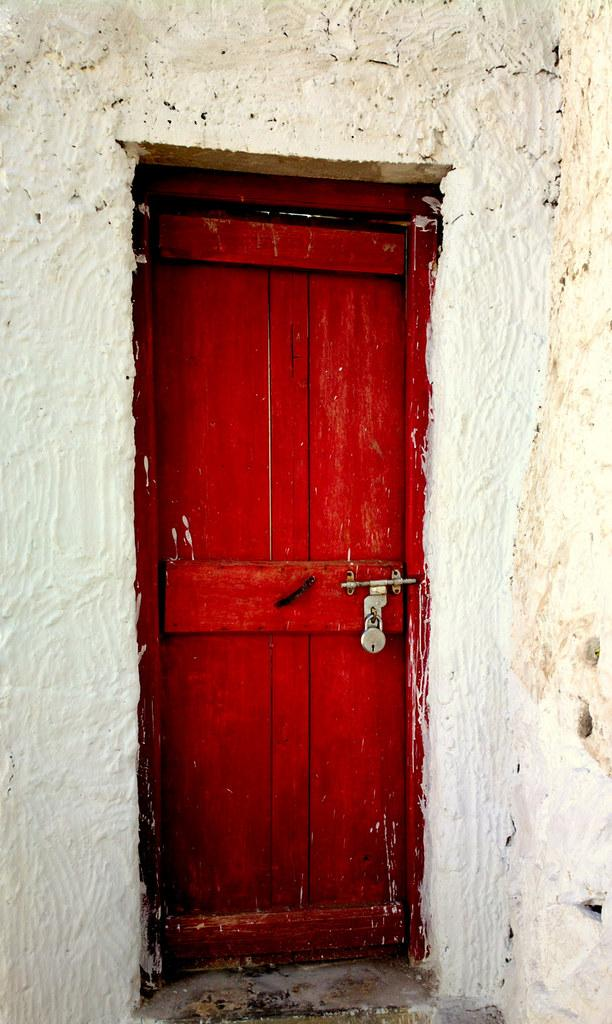door: (139, 178, 430, 974)
